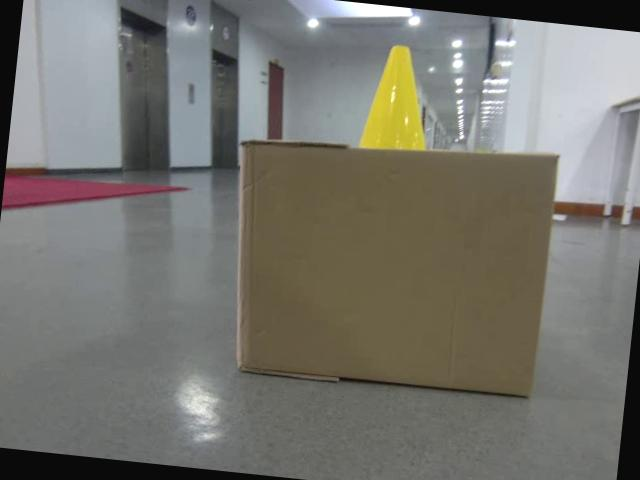yellow_barrel: (361, 43, 440, 152)
